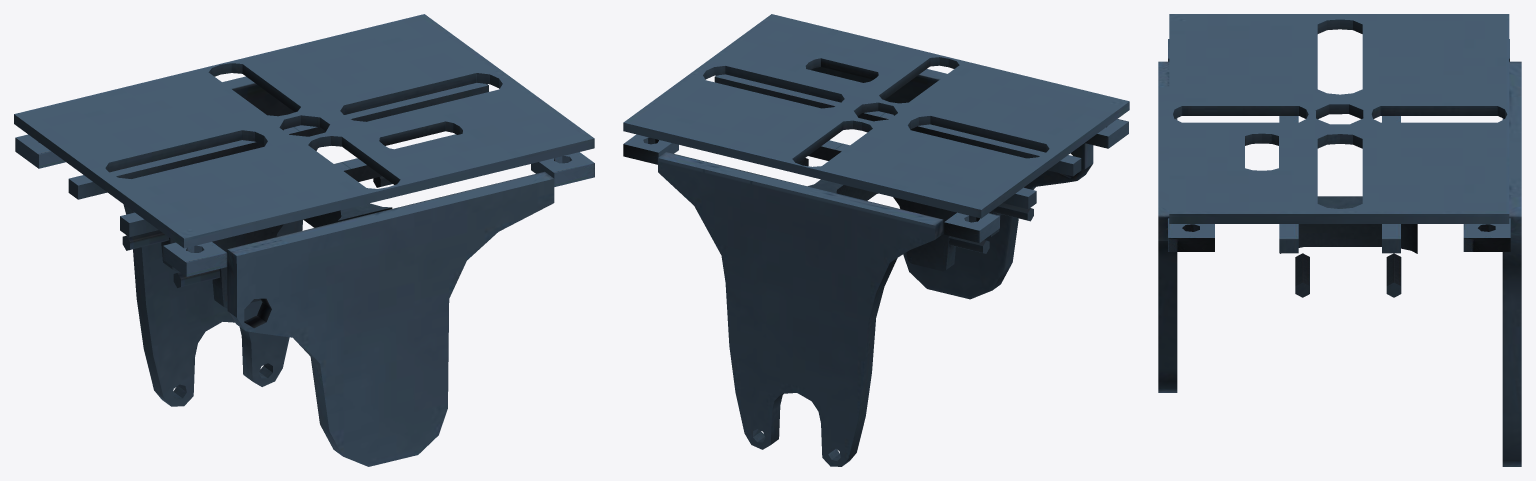
The model's file is qianyingji.FBX.
3 views of the same model, side by side, from view 1: azimuth 30°, elevation 25°; view 2: azimuth 150°, elevation 25°; view 3: azimuth 270°, elevation 25° (orthographic). The views are drawn at different scales.
Parts seen in each view (by area): view 1: 3; view 2: 3; view 3: 3.
Part boxes in pixels (x1=…): 3: x1=14, y1=14, x2=594, y2=466; 3: x1=623, y1=14, x2=1129, y2=466; 3: x1=1158, y1=14, x2=1521, y2=466.
Size of the model in its own units: 0.5582 by 0.4284 by 0.4275.
